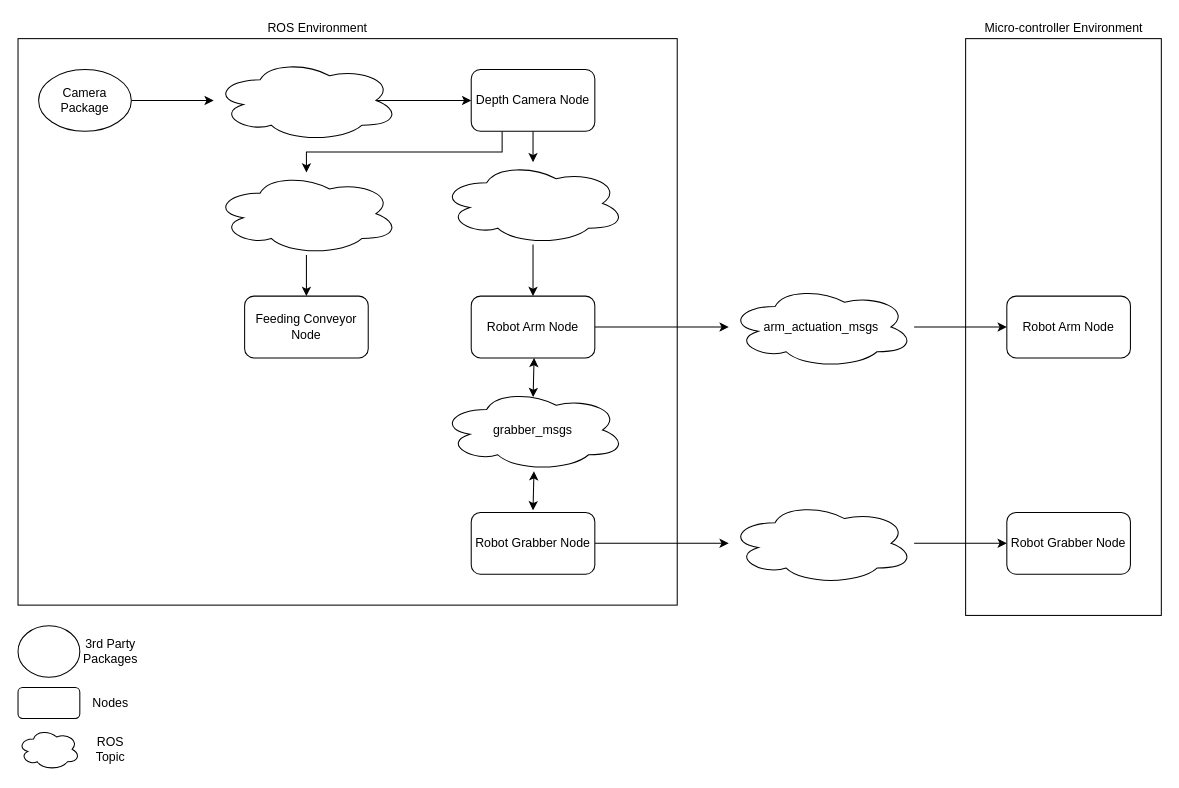
This 1179x788 diagram has some shape labels left out. The shapes that lost their labels are listed below. From the top down, each one's box as (x1, y1, x2, y2) in pixels, then its label:
(213, 58, 399, 142): camera_msgs_raw
(213, 171, 399, 255): coneyor_stop_msgs
(439, 161, 626, 245): object_position_msgs
(728, 501, 914, 585): grabber_actuation_msgs
